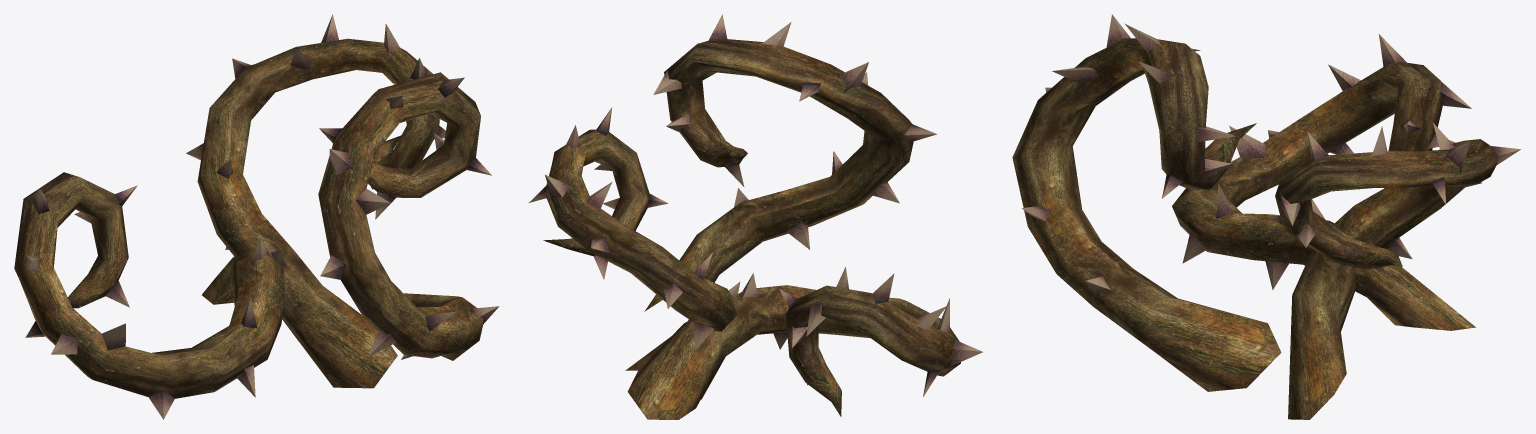
The model's file is obj_mtthund_thorn05b.glb.
3 views of the same model, side by side, from view 1: azimuth 30°, elevation 25°; view 2: azimuth 150°, elevation 25°; view 3: azimuth 270°, elevation 25° (orthographic). The views are drawn at different scales.
Visible parts, largest first — view 1: obj_mtthund_thorn05B01, obj_mtthund_thorn05b, obj_mtthund_thorn05b00; view 2: obj_mtthund_thorn05b00, obj_mtthund_thorn05B01, obj_mtthund_thorn05b; view 3: obj_mtthund_thorn05b00, obj_mtthund_thorn05b, obj_mtthund_thorn05B01.
Boxes of the visible parts, x1,y1,x2,y2 form: obj_mtthund_thorn05B01: [14, 172, 284, 419]; obj_mtthund_thorn05b: [186, 14, 445, 388]; obj_mtthund_thorn05b00: [318, 72, 499, 360]; obj_mtthund_thorn05b00: [644, 14, 936, 311]; obj_mtthund_thorn05B01: [627, 267, 982, 419]; obj_mtthund_thorn05b: [529, 107, 739, 399]; obj_mtthund_thorn05b00: [1012, 14, 1281, 391]; obj_mtthund_thorn05b: [1271, 123, 1520, 419]; obj_mtthund_thorn05B01: [1172, 34, 1475, 330].
Bounding box in the file's own units: 12.98 × 10.82 × 13.48.
Materials: 1 (1 with a texture image).
